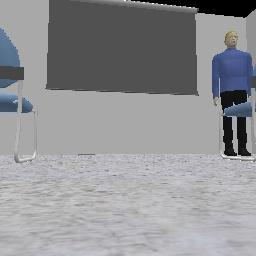persoana: (213, 31, 251, 111), (223, 116, 236, 155), (238, 117, 250, 155)
scaun: (0, 28, 37, 161)
videoproiector: (46, 0, 198, 94)
